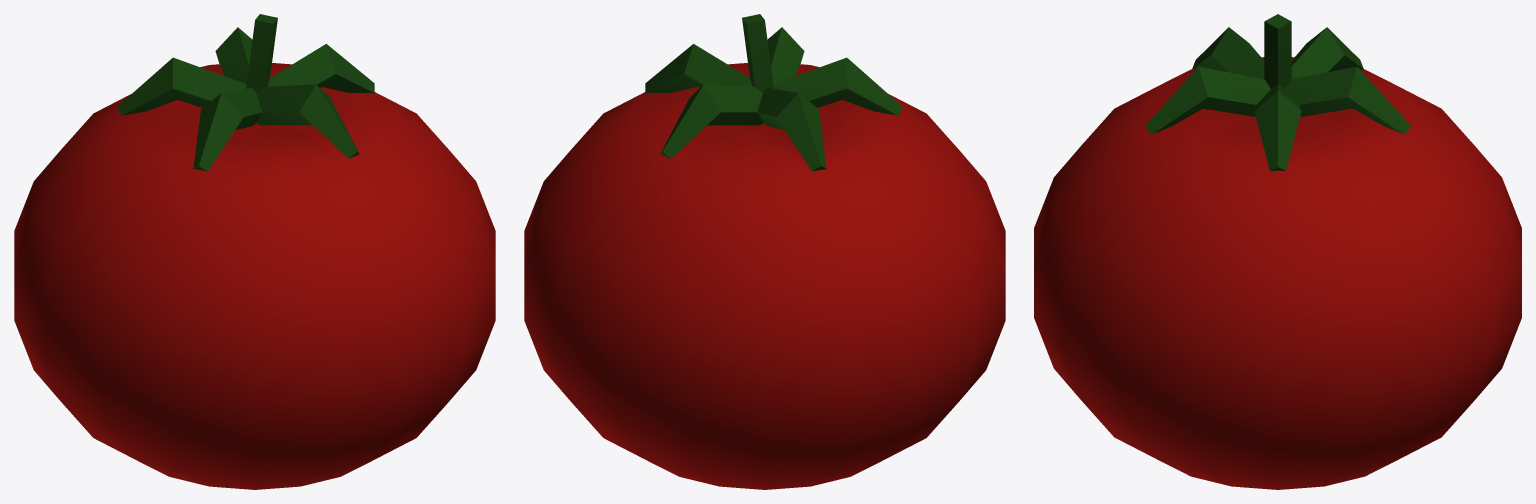
The model's file is mkt-tomato.glb.
The picture shows the model from 3 angles, left to right: view 1: azimuth 30°, elevation 25°; view 2: azimuth 150°, elevation 25°; view 3: azimuth 270°, elevation 25°; orthographic projection.
Parts seen in each view (by area): view 1: fruit__sauce, calyx__plant; view 2: fruit__sauce, calyx__plant; view 3: fruit__sauce, calyx__plant.
Boxes of the visible parts, box(x1,y1,x2,y2) form: fruit__sauce: box(14, 63, 495, 489); calyx__plant: box(117, 14, 374, 171); fruit__sauce: box(524, 63, 1005, 489); calyx__plant: box(645, 14, 902, 171); fruit__sauce: box(1034, 57, 1521, 489); calyx__plant: box(1145, 14, 1410, 170).
Size of the model in its own units: 0.0732 by 0.0733 by 0.0721.
